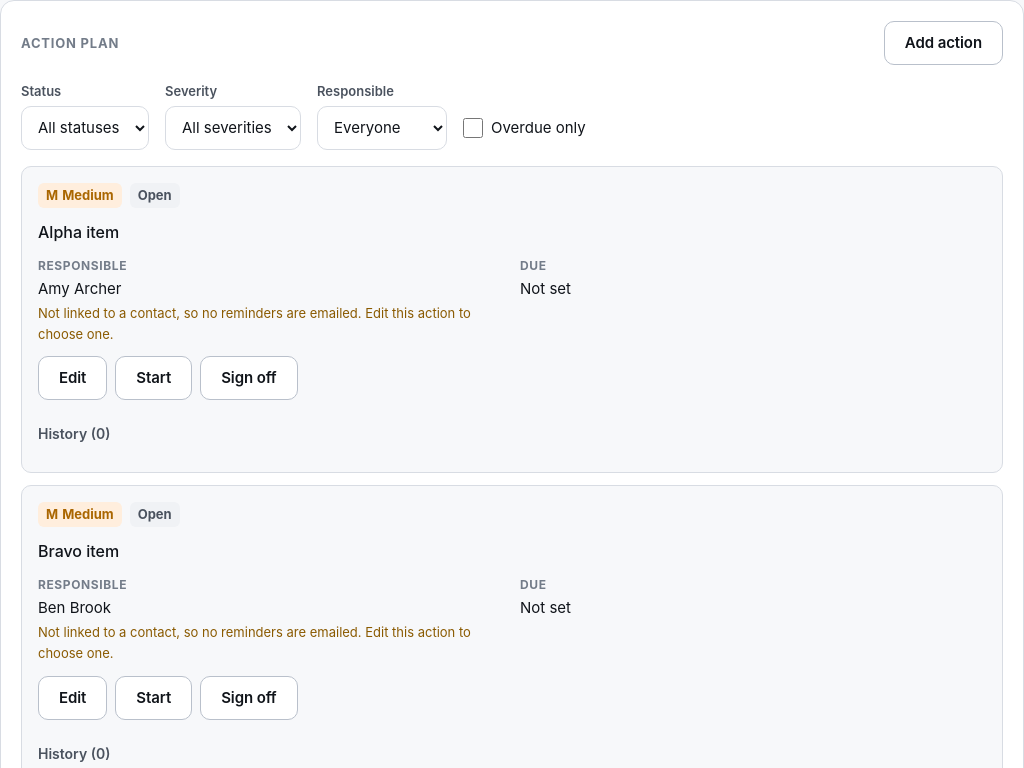
Test: ActionsPanel › filters by responsible, including the Unassigned option (story 2042)
Select "Amy Archer" in the dropdown labelled "Responsible". click: (382, 128)
box: [317,106,447,150]
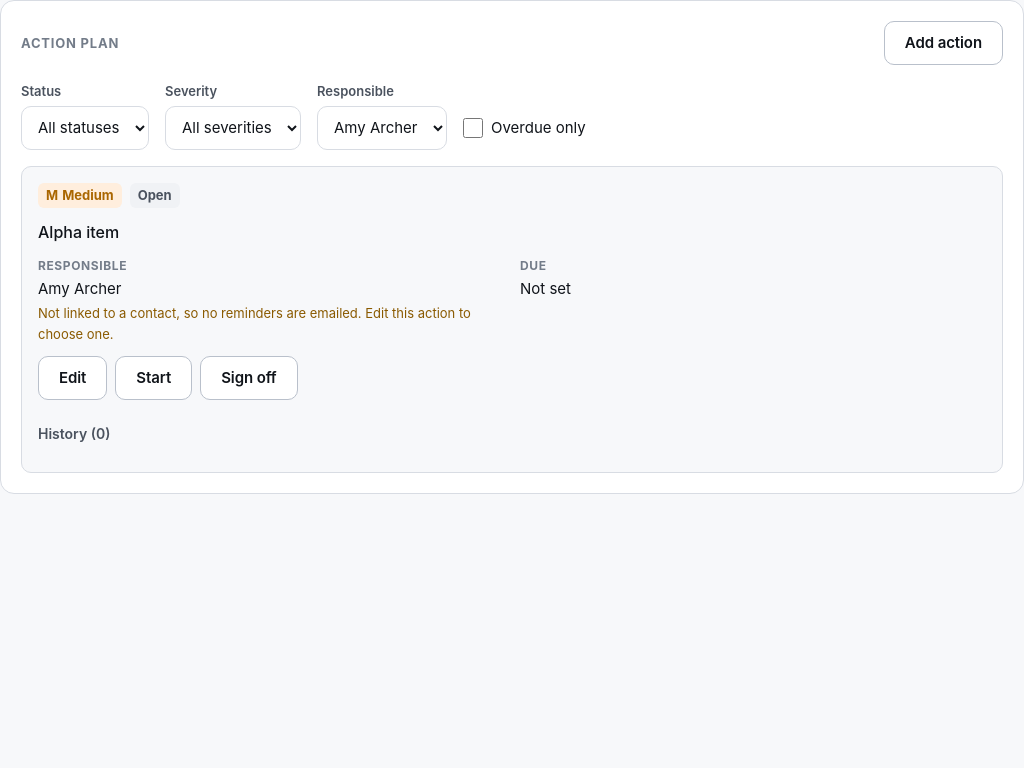
Expected: the text "Alpha item" is shown, [38,222,119,242]
Expected: the text "Bravo item" is gone
Select "Unassigned" in the dropdown labelled "Responsible". click: (382, 128)
box: [317,106,447,150]
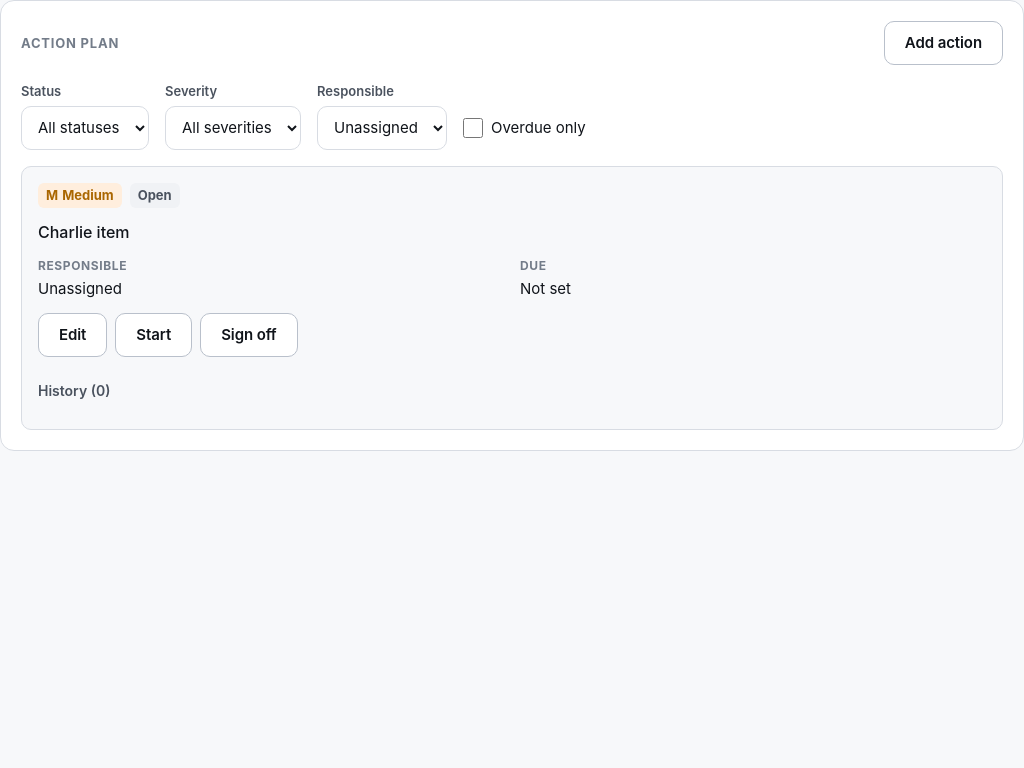
Expected: the text "Alpha item" is gone
Expected: the text "Charlie item" is shown, [38,222,130,242]
